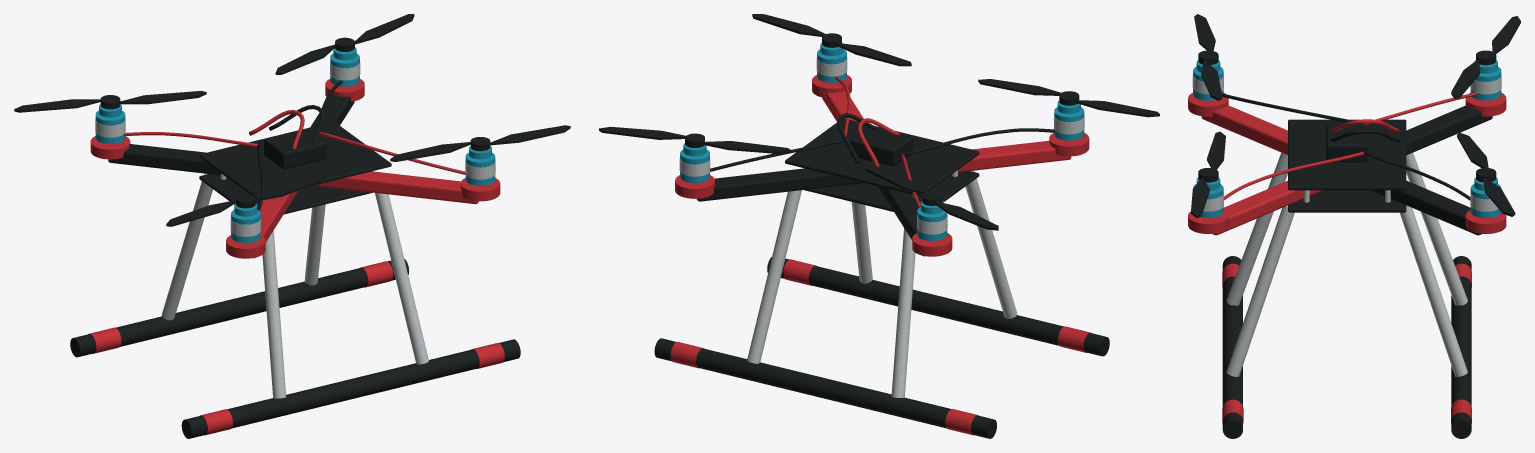
The model's file is lod0_source.glb.
3 renders of one model, left to right at view 1: azimuth 30°, elevation 25°; view 2: azimuth 150°, elevation 25°; view 3: azimuth 270°, elevation 25°, orthographic. The views are drawn at different scales.
Visible parts, largest first — view 1: Long black landing skid, Central dark layered flight plate.001, Long black landing skid.001, Red or black rigid arm.001, Tall silver landing strut.001, Tall silver landing strut, Red or black rigid arm.003, Central dark layered flight plate, Tall silver landing strut.002, Centre electronic module, Tall silver landing strut.003, Red or black rigid arm (+17 smaller); view 2: Long black landing skid.001, Long black landing skid, Central dark layered flight plate.001, Red or black rigid arm.002, Tall silver landing strut.003, Tall silver landing strut.002, Red or black rigid arm, Central dark layered flight plate, Tall silver landing strut, Centre electronic module, Tall silver landing strut.001, Red or black rigid arm.003 (+17 smaller); view 3: Central dark layered flight plate.001, Long black landing skid, Tall silver landing strut.001, Tall silver landing strut.003, Long black landing skid.001, Central dark layered flight plate, Red or black rigid arm.003, Red or black rigid arm, Red or black rigid arm.001, Red or black rigid arm.002, Tall silver landing strut.002, Tall silver landing strut (+23 smaller).
Part boxes in pixels (x1,y1,x2,y2): Long black landing skid: [181, 339, 520, 438]; Central dark layered flight plate.001: [199, 121, 391, 198]; Long black landing skid.001: [70, 259, 408, 357]; Red or black rigid arm.001: [313, 171, 478, 204]; Tall silver landing strut.001: [375, 193, 428, 364]; Tall silver landing strut: [262, 230, 286, 398]; Red or black rigid arm.003: [108, 144, 220, 175]; Central dark layered flight plate: [199, 174, 372, 214]; Tall silver landing strut.002: [161, 173, 212, 320]; Centre electronic module: [264, 129, 326, 169]; Tall silver landing strut.003: [304, 204, 325, 285]; Red or black rigid arm: [253, 191, 298, 258]; Long black landing skid.001: [654, 338, 996, 438]; Long black landing skid: [767, 257, 1109, 356]; Central dark layered flight plate.001: [785, 118, 979, 196]; Red or black rigid arm.002: [696, 168, 863, 201]; Tall silver landing strut.003: [747, 190, 801, 363]; Tall silver landing strut.002: [891, 228, 915, 397]; Red or black rigid arm: [958, 140, 1071, 172]; Central dark layered flight plate: [804, 171, 979, 211]; Tall silver landing strut: [965, 170, 1017, 318]; Centre electronic module: [850, 127, 913, 166]; Tall silver landing strut.001: [851, 202, 872, 283]; Red or black rigid arm.003: [878, 186, 924, 256]; Central dark layered flight plate.001: [1288, 119, 1406, 190]; Long black landing skid: [1222, 256, 1242, 438]; Tall silver landing strut.001: [1226, 205, 1294, 376]; Tall silver landing strut.003: [1400, 205, 1467, 376]; Long black landing skid.001: [1451, 256, 1471, 438]; Central dark layered flight plate: [1288, 190, 1406, 212]; Red or black rigid arm.003: [1406, 105, 1492, 155]; Red or black rigid arm: [1201, 105, 1287, 154]; Red or black rigid arm.001: [1212, 180, 1322, 235]; Red or black rigid arm.002: [1371, 180, 1481, 235]; Tall silver landing strut.002: [1406, 152, 1467, 305]; Tall silver landing strut: [1226, 152, 1287, 305].
Bounding box in the file's own units: 0.5646 × 0.3175 × 0.3932.
